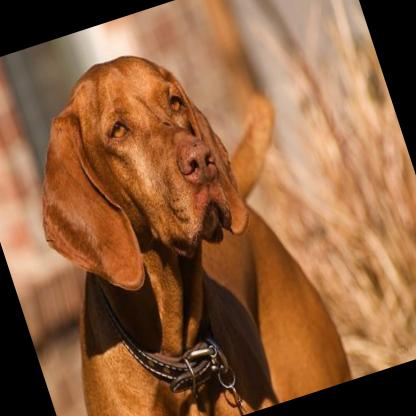vizsla: (0, 16, 358, 416)
